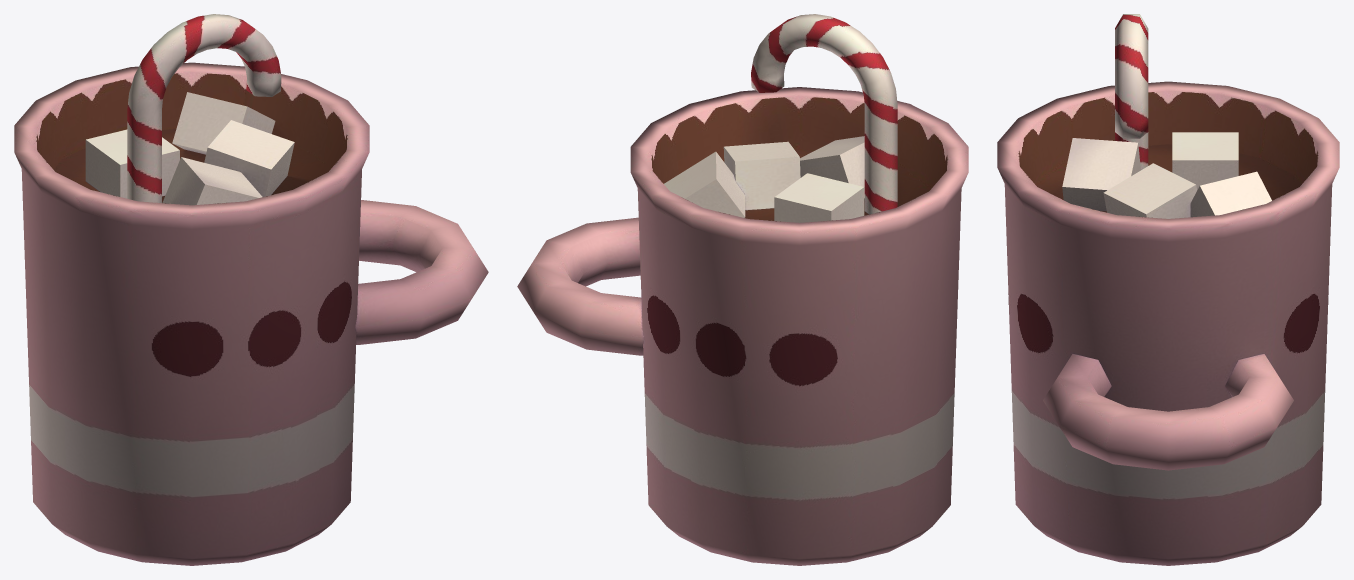
File: cocoa_mug.glb
3 views of the same model, side by side, from view 1: azimuth 30°, elevation 25°; view 2: azimuth 150°, elevation 25°; view 3: azimuth 270°, elevation 25° (orthographic). The views are drawn at different scales.
Parts seen in each view (by area): view 1: Mug, Marshmallows, CandyStick; view 2: Mug, Marshmallows, CandyStick; view 3: Mug, Marshmallows, CandyStick.
Boxes of the visible parts, x1=… form: Mug: x1=14, y1=62, x2=488, y2=565; Marshmallows: x1=85, y1=92, x2=294, y2=205; CandyStick: x1=127, y1=14, x2=281, y2=202; Mug: x1=517, y1=87, x2=968, y2=565; Marshmallows: x1=664, y1=136, x2=864, y2=222; CandyStick: x1=751, y1=14, x2=897, y2=214; Mug: x1=997, y1=81, x2=1339, y2=565; Marshmallows: x1=1062, y1=132, x2=1271, y2=218; CandyStick: x1=1115, y1=14, x2=1148, y2=169.
Bounding box in the file's own units: 0.131 × 0.1439 × 0.0926.
1 material, 1 textured.
